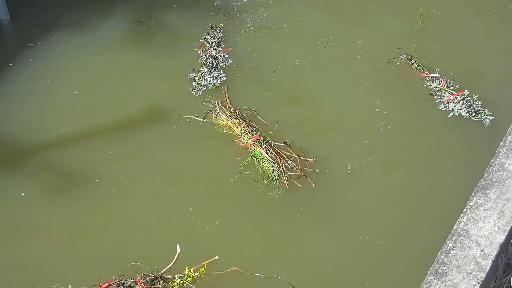leaf: (128, 18, 165, 24)
twig: (187, 95, 352, 207), (68, 243, 327, 288), (382, 46, 489, 126), (192, 26, 240, 93)
